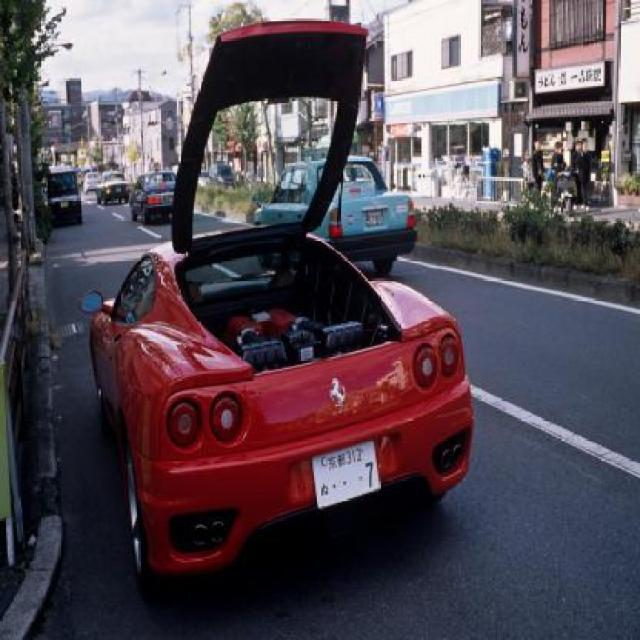License-Plates: (312, 439, 380, 509)
